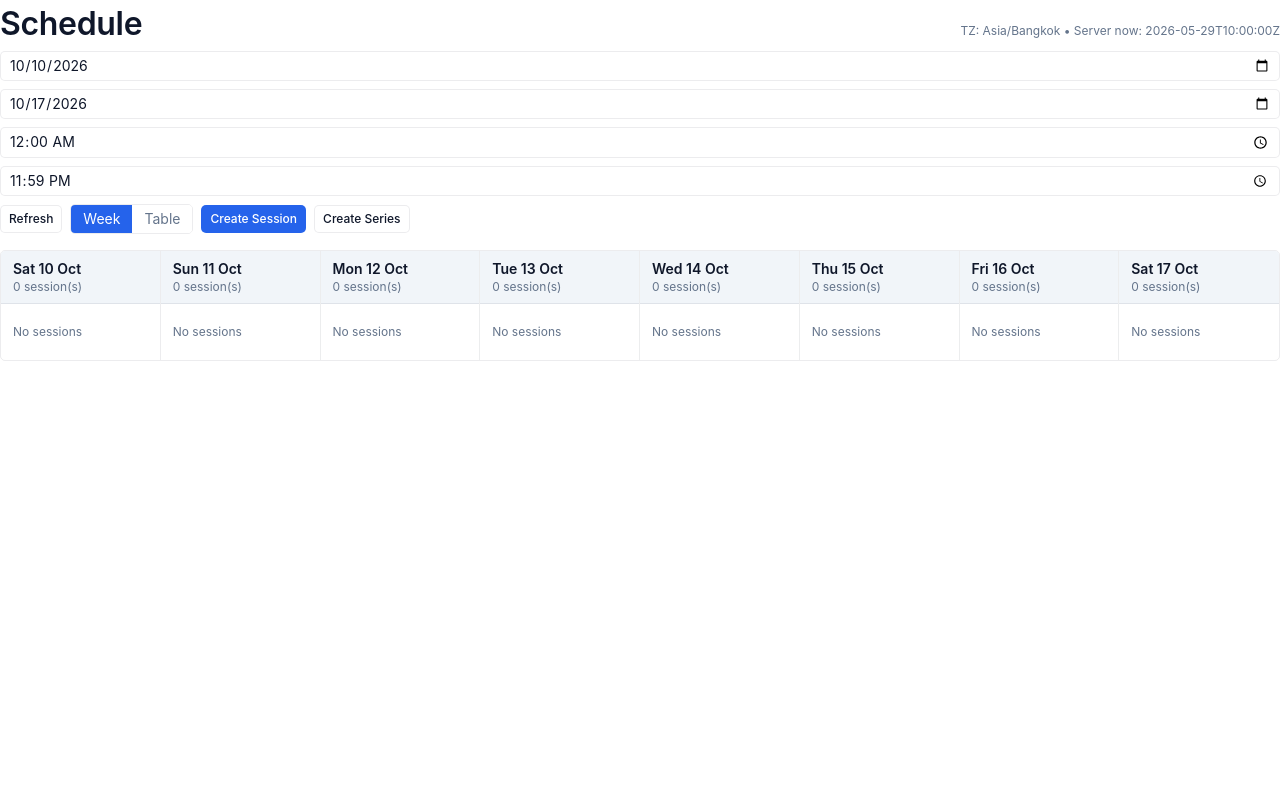
Test: Schedule edit journeys › cancels the edit without sending a PATCH
Type "2026-05-20" into the date field named "Start date".
click(640, 66); type("2026-05-20")  # box [0, 51, 1279, 81]
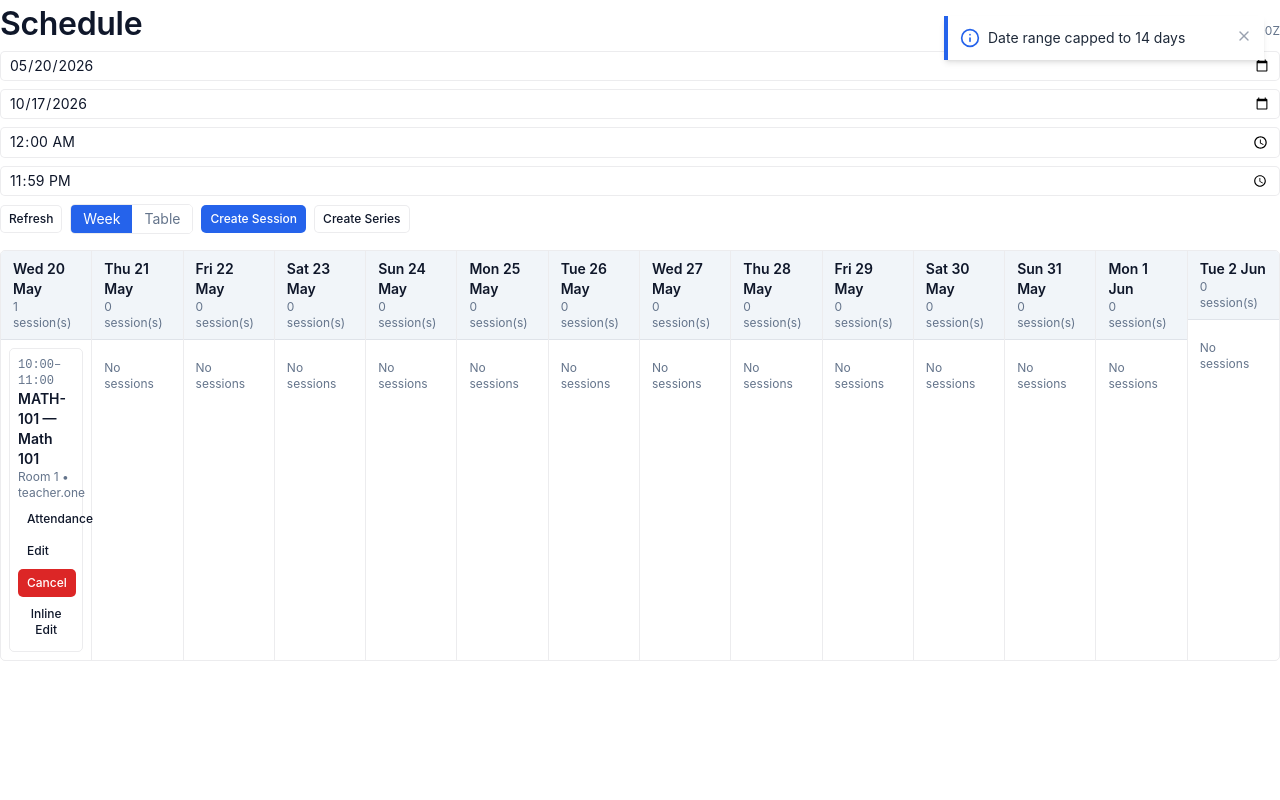
Type "2026-05-20" into the date field named "End date".
click(640, 104); type("2026-05-20")  # box [0, 89, 1279, 119]
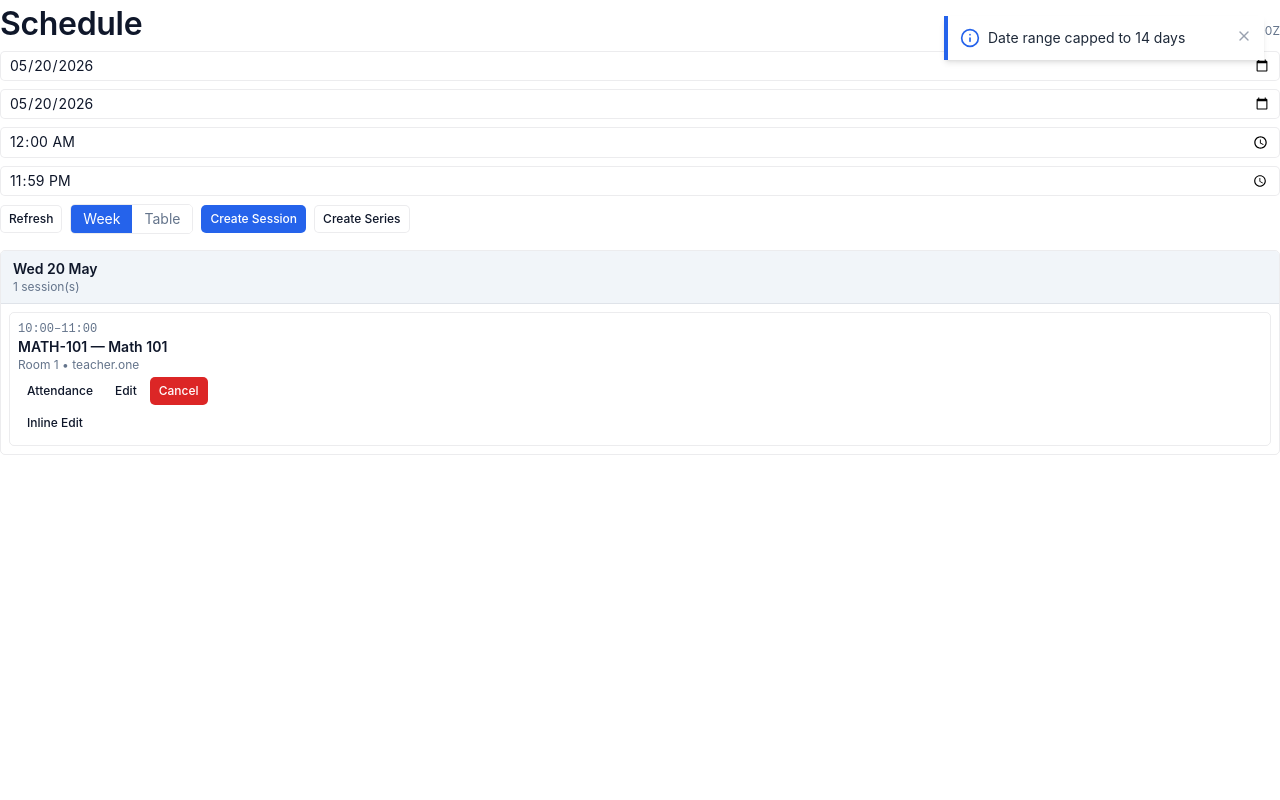
Result: the text "MATH-101 — Math 101" is shown at [18, 338, 167, 355]
Click the button "Edit".
click(126, 391)  # box [106, 377, 146, 405]
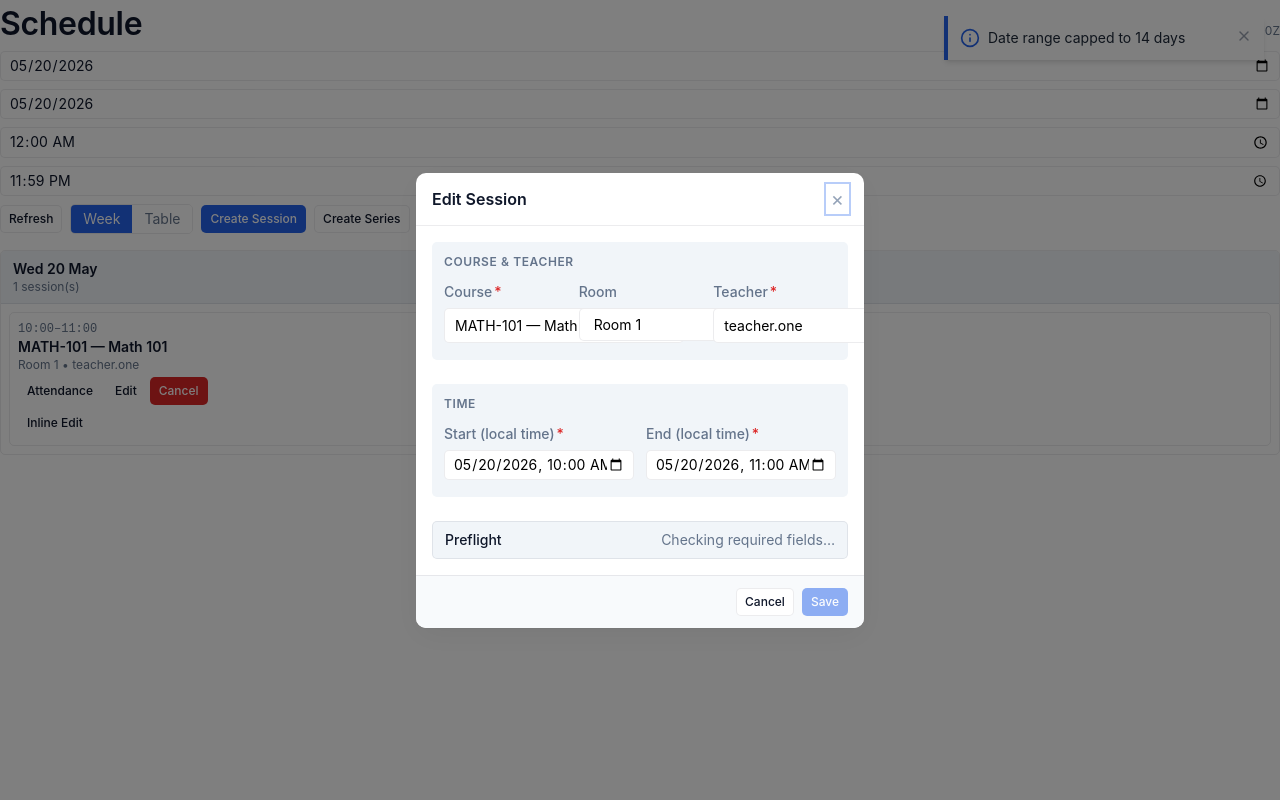
Click the button "Cancel".
click(765, 602)  # box [736, 588, 794, 616]
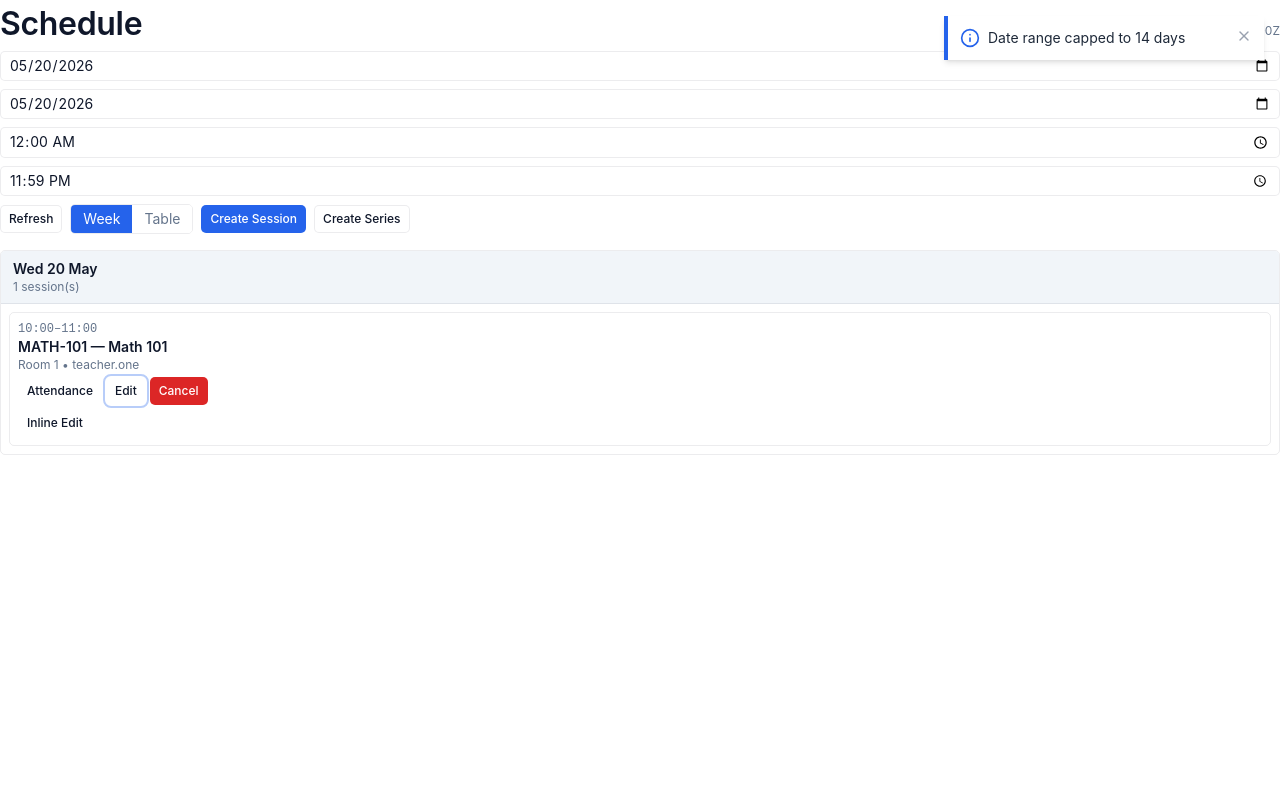
Result: the heading "Edit Session" is gone
